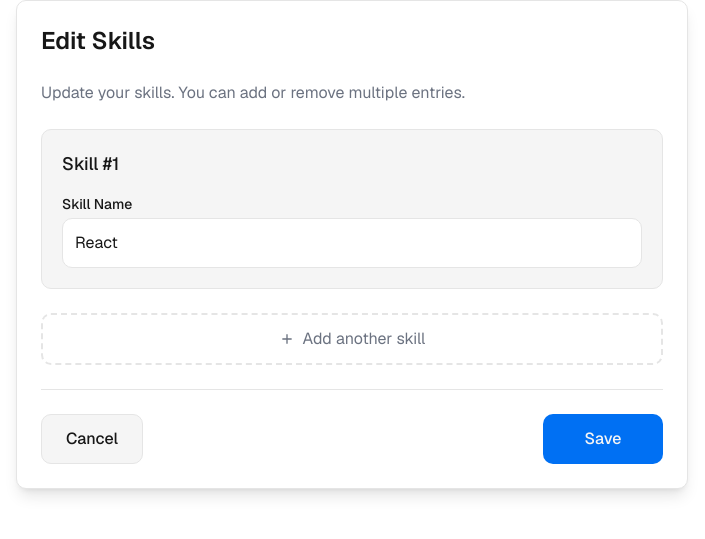
it: EditAbilitiesForm Component › Walidacja i przesyłanie (Submit) › powinien pokazać błąd walidacji, jeśli pole jest puste
Clear the field. click: (352, 243)
box: [62,218,642,268]
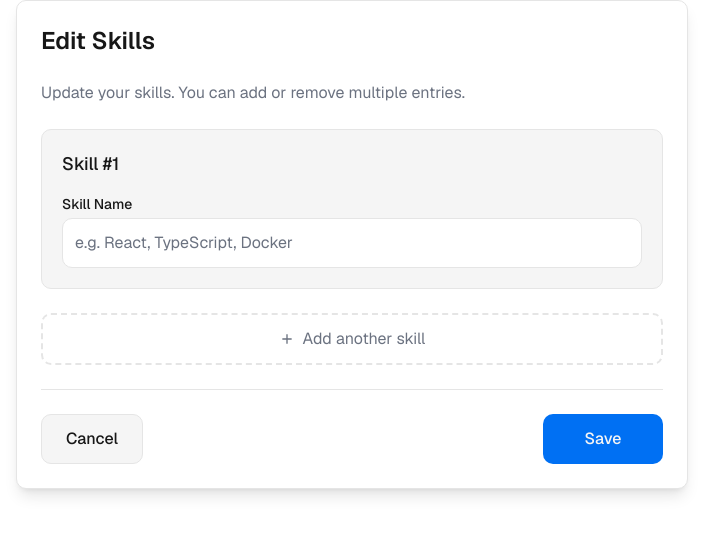
Click the button "Save". click: (603, 439)
box: [543,414,663,464]
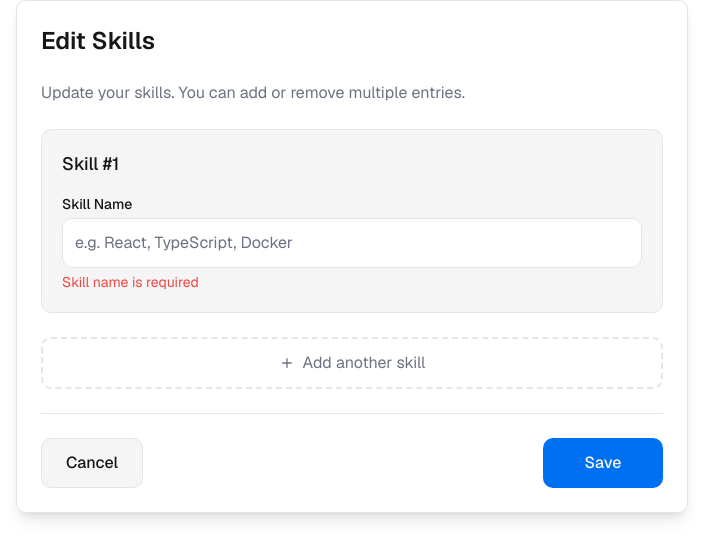
Expected: the text "Skill name is required" is shown, [62,273,199,291]
